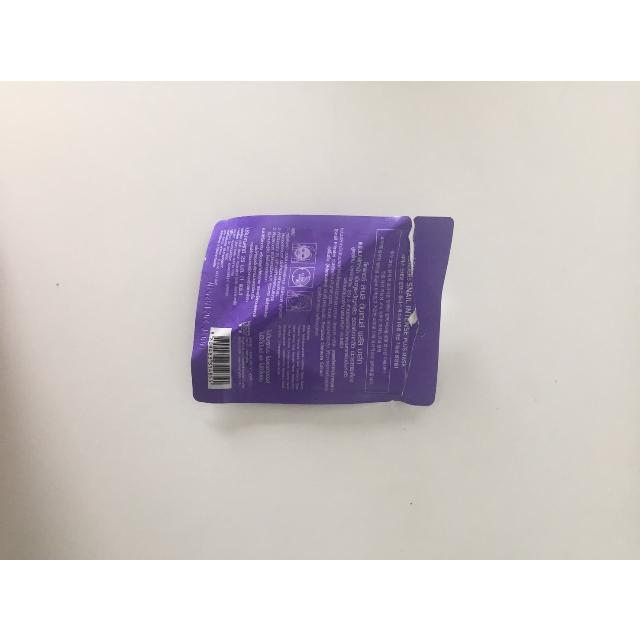Paquete de plastico: (192, 207, 445, 405)
